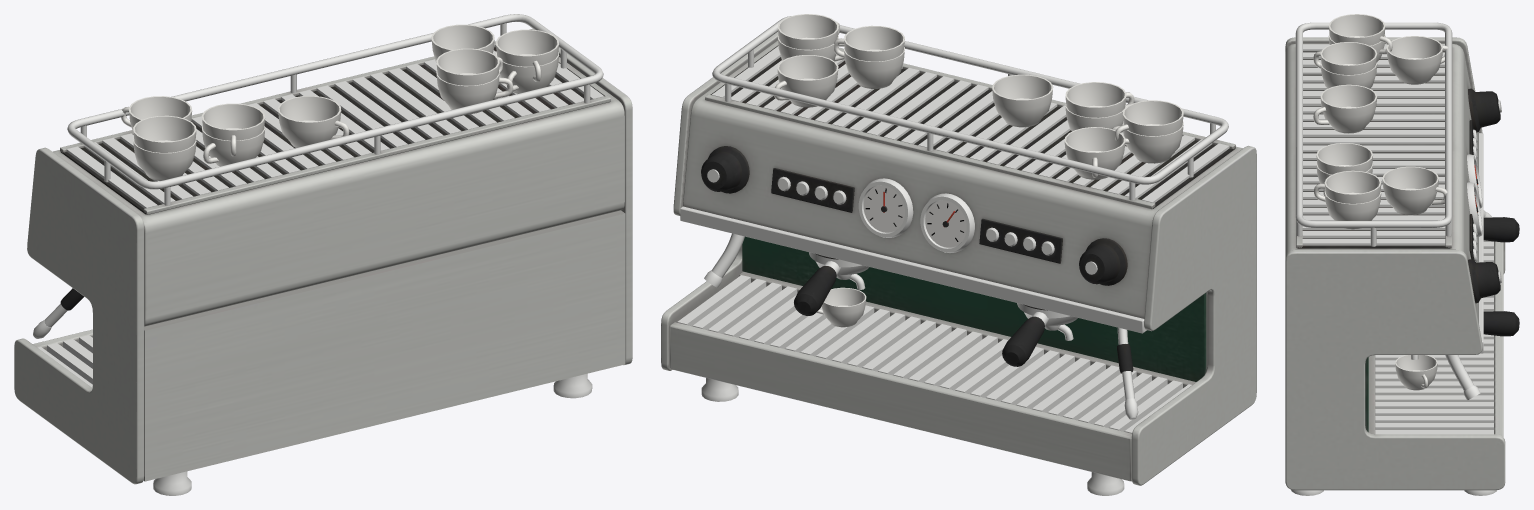
The model's file is PH_BackShelf__Machine.fbx.
The picture shows the model from 3 angles, left to right: view 1: azimuth 30°, elevation 25°; view 2: azimuth 150°, elevation 25°; view 3: azimuth 270°, elevation 25°; orthographic projection. The views are drawn at different scales.
Parts seen in each view (by area): view 1: PH_BackShelf__Machine; view 2: PH_BackShelf__Machine; view 3: PH_BackShelf__Machine.
Part boxes in pixels (x1,y1,x2,y2): PH_BackShelf__Machine: (14,14,632,495); PH_BackShelf__Machine: (661,14,1256,495); PH_BackShelf__Machine: (1285,14,1519,495).
Size of the model in its own units: 0.62 by 0.398 by 0.2841.
